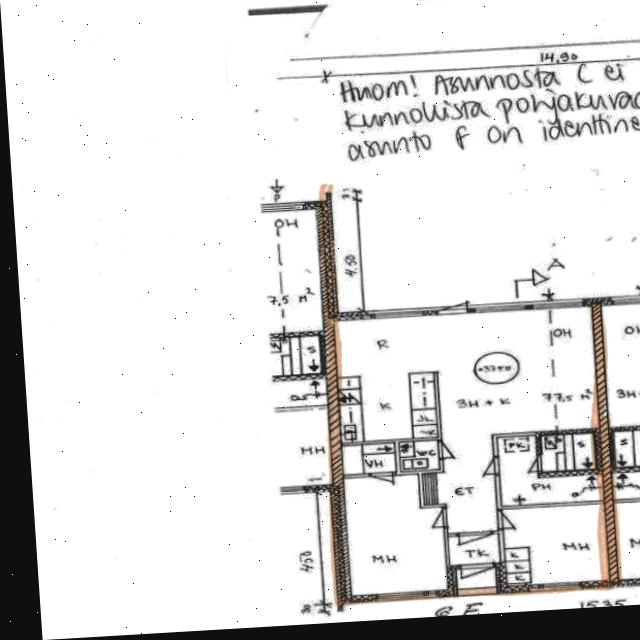room: (344, 472, 448, 597), (502, 503, 610, 586), (497, 432, 604, 506), (540, 432, 598, 472), (448, 533, 501, 566), (342, 443, 396, 475), (399, 440, 439, 471), (457, 567, 497, 589)
